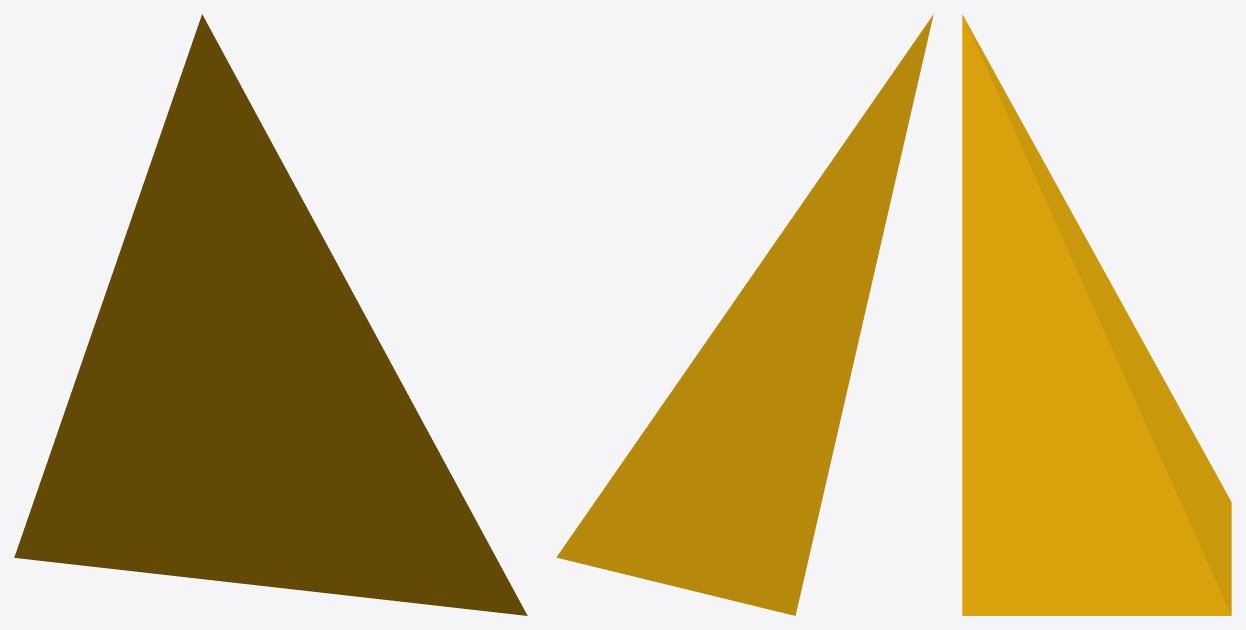
The model's file is wedge_corner_1x1x2.dae.
The picture shows the model from 3 angles, left to right: view 1: azimuth 30°, elevation 25°; view 2: azimuth 150°, elevation 25°; view 3: azimuth 270°, elevation 25°; orthographic projection. The views are drawn at different scales.
Parts seen in each view (by area): view 1: 立方体; view 2: 立方体; view 3: 立方体.
Part boxes in pixels (x1,y1,x2,y2): 立方体: [14, 14, 527, 615]; 立方体: [556, 14, 933, 615]; 立方体: [962, 14, 1231, 615].
Size of the model in its own units: 0.25 by 0.25 by 0.5.
